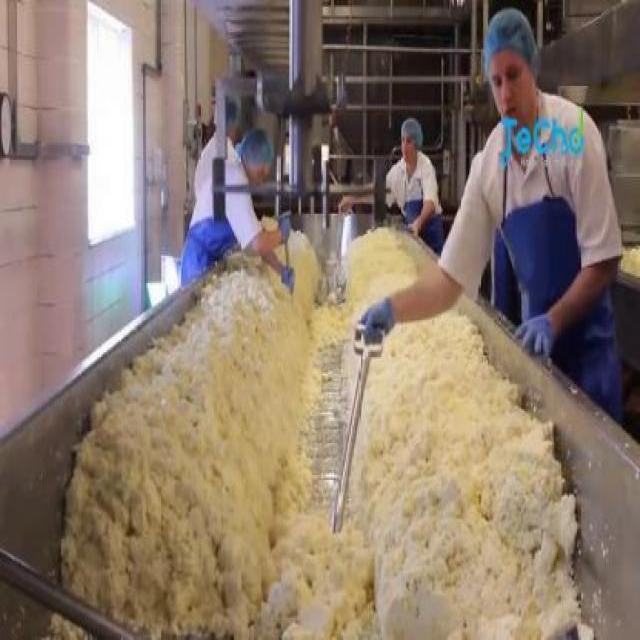bare_hand: (333, 190, 353, 211), (408, 219, 421, 237)
gloved_hand: (350, 293, 406, 360), (512, 295, 562, 355), (277, 254, 302, 298), (273, 214, 293, 244)
